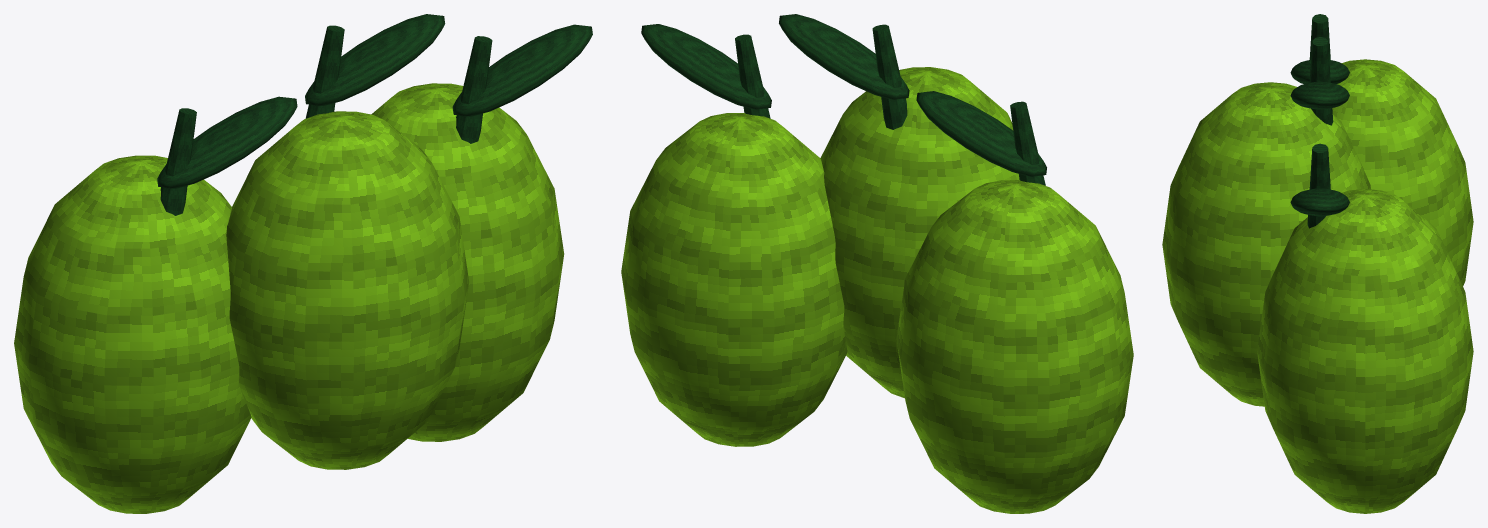
File: fruta-3.glb
The picture shows the model from 3 angles, left to right: view 1: azimuth 30°, elevation 25°; view 2: azimuth 150°, elevation 25°; view 3: azimuth 270°, elevation 25°; orthographic projection. The views are drawn at different scales.
Parts seen in each view (by area): view 1: Fruta.003, Pedúnculo.003; view 2: Fruta.003, Pedúnculo.003; view 3: Fruta.003, Pedúnculo.003.
Boxes of the visible parts, bbox=[...] form: Fruta.003: bbox=[14, 83, 564, 513]; Pedúnculo.003: bbox=[157, 14, 592, 215]; Fruta.003: bbox=[621, 67, 1133, 513]; Pedúnculo.003: bbox=[641, 14, 1046, 185]; Fruta.003: bbox=[1162, 59, 1473, 513]; Pedúnculo.003: bbox=[1290, 14, 1349, 228].
Size of the model in its own units: 1.24 by 1.01 by 0.69.
Materials: 2 (2 with a texture image).
